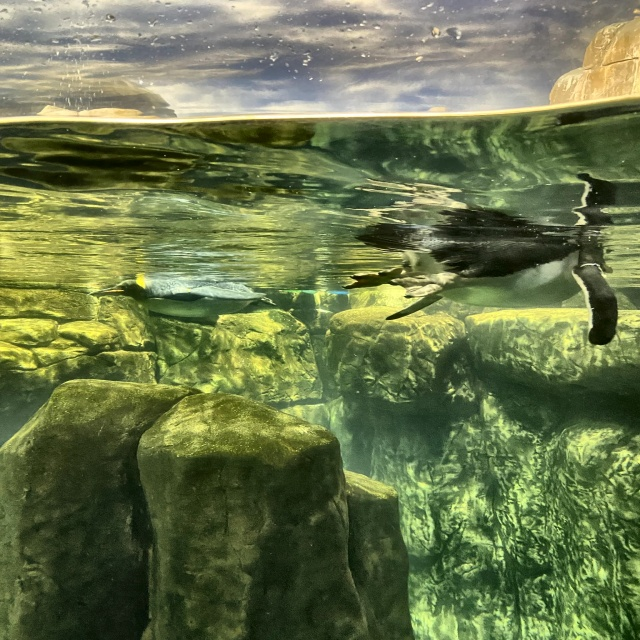penguin: (343, 209, 618, 344), (92, 276, 277, 324)
